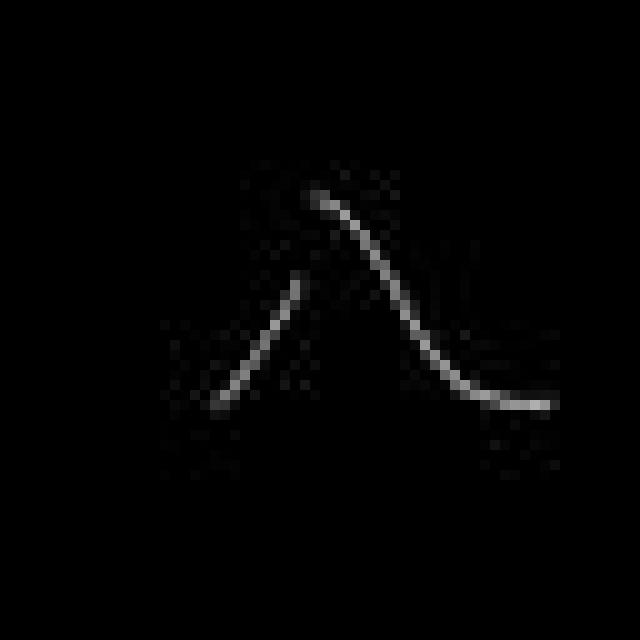8 -eight-: (200, 182, 560, 434)
